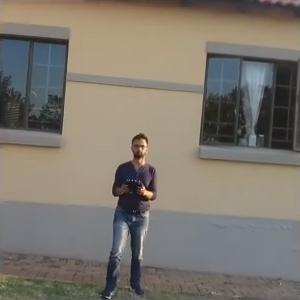follow: (97, 126, 160, 298)
